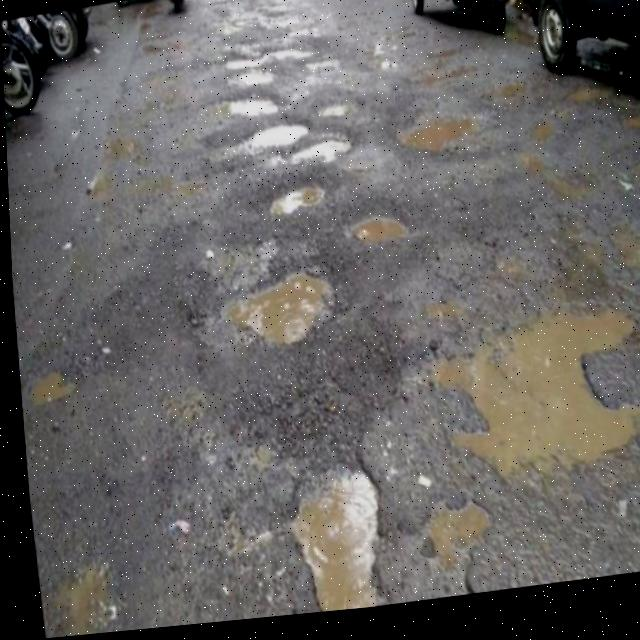Pothole: (390, 293, 640, 536), (256, 424, 408, 622), (215, 257, 334, 346), (387, 99, 487, 177), (580, 190, 640, 316), (14, 351, 96, 426), (218, 29, 323, 75), (262, 186, 340, 241), (236, 114, 320, 165), (346, 209, 408, 261), (292, 144, 355, 189), (310, 101, 387, 136), (221, 96, 278, 133), (294, 58, 349, 88)
